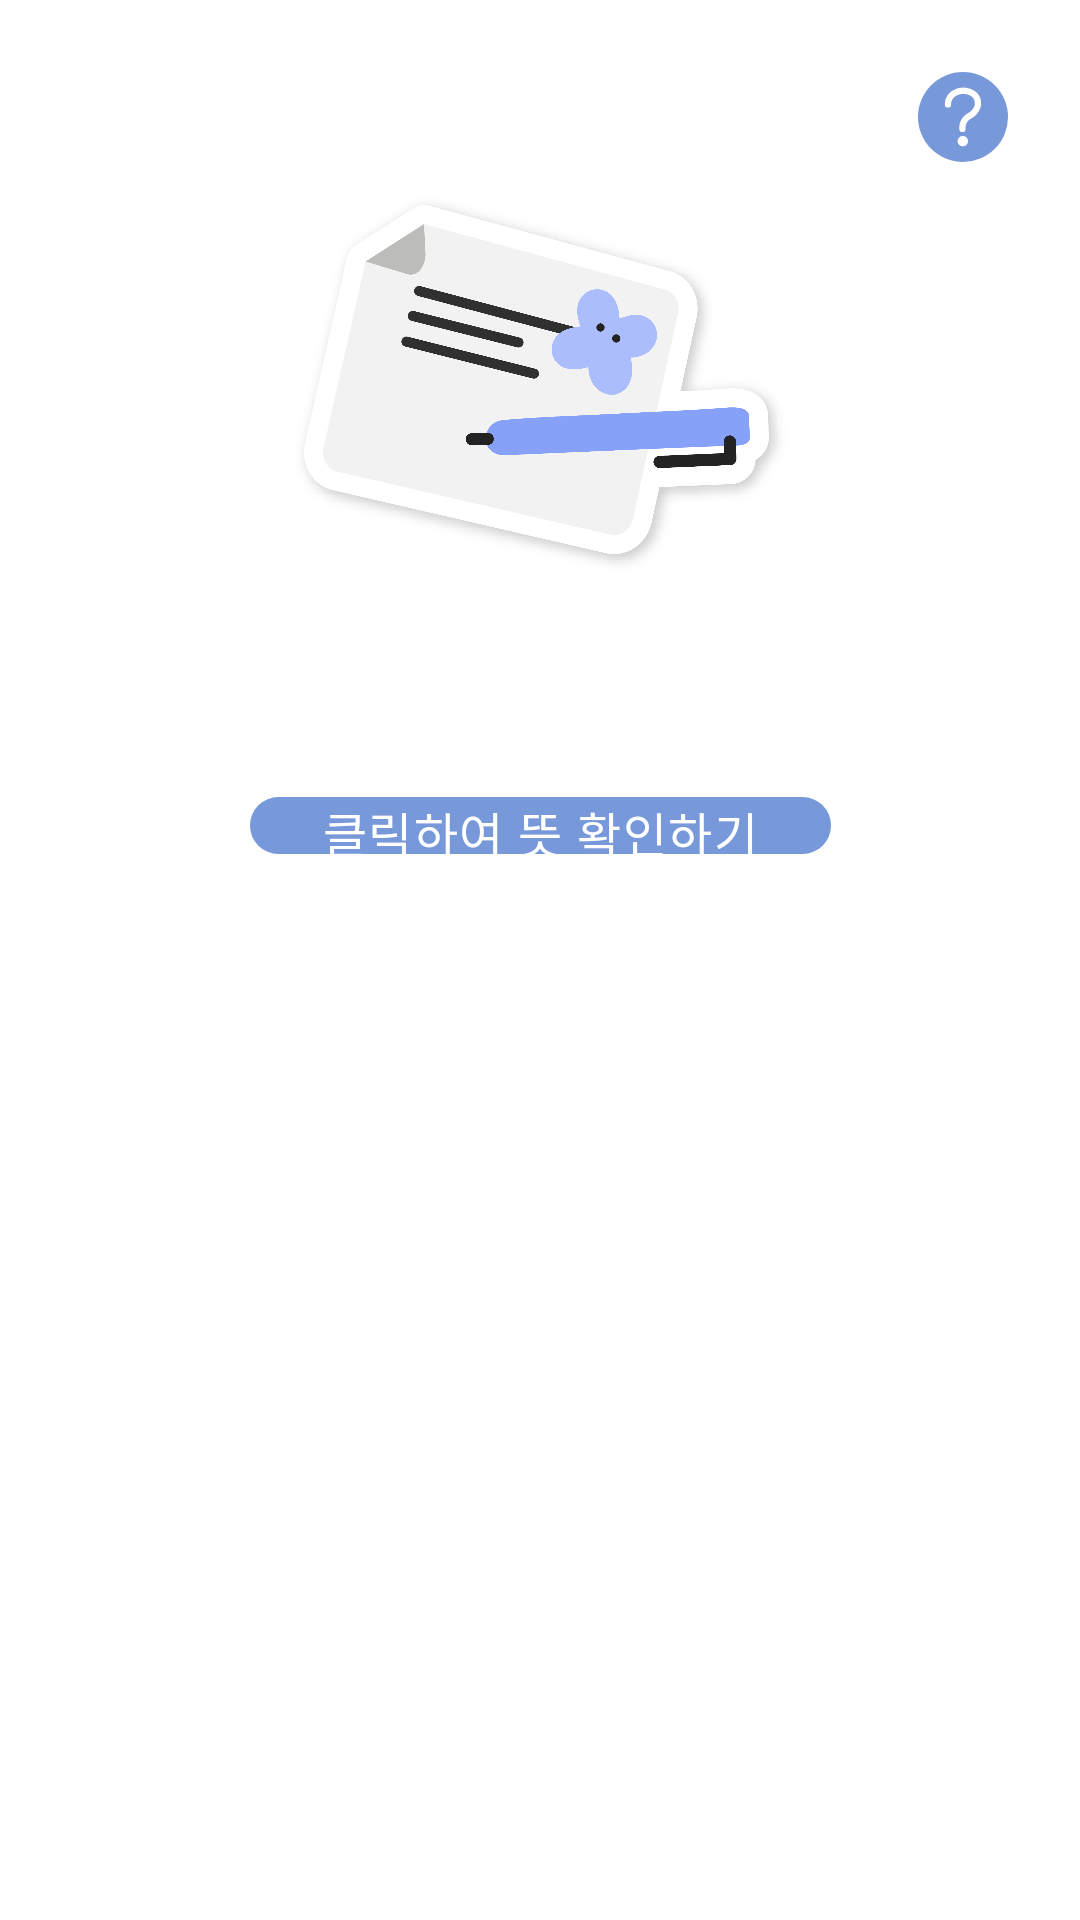

Screen size 1080w x 1920h. Icon name, then its box in pixels as (x1, y1, x2, y2):
도움말 버튼: (918, 72, 1008, 162)
